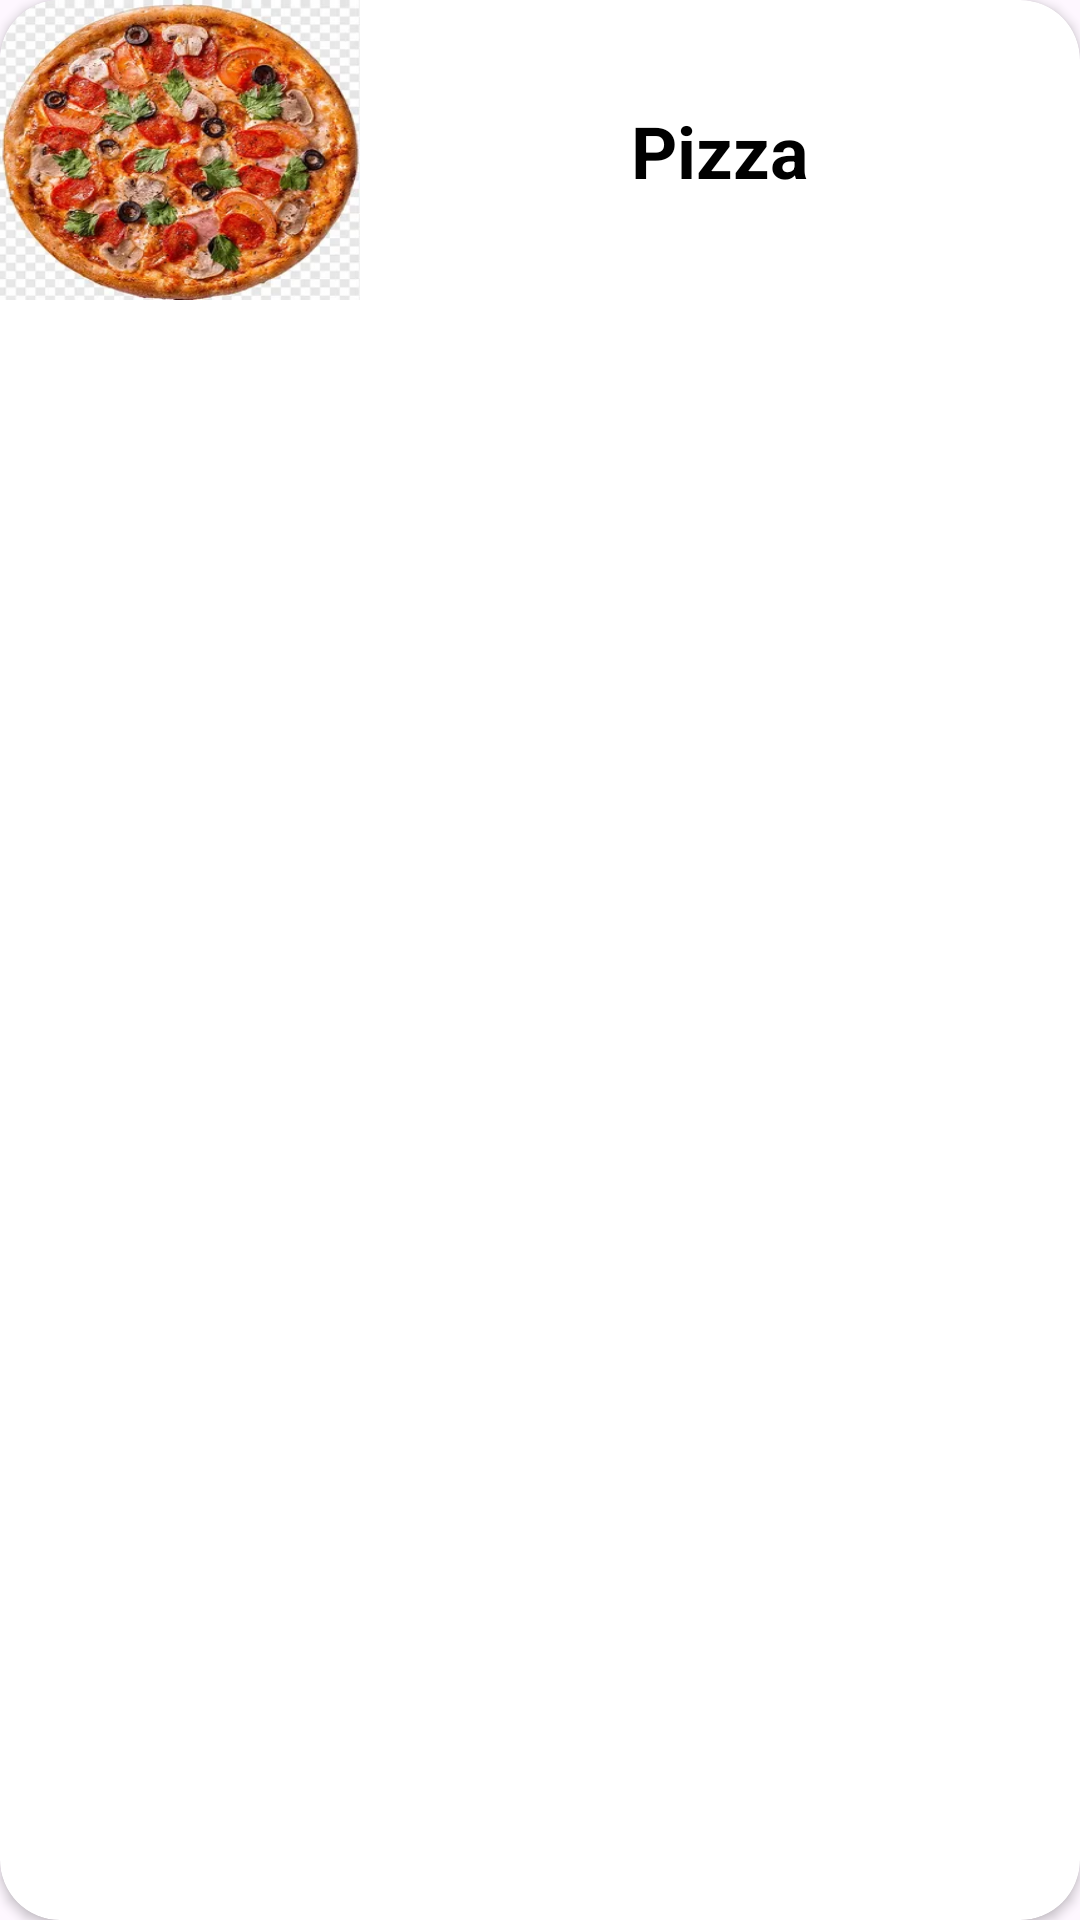

Screen size 1080px×1920px. Icon name, then its box in pixels as rect(x1, y1, x2, y2):
pizza: rect(0, 0, 359, 300)
